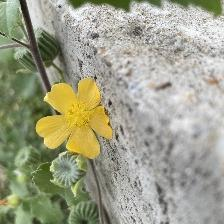indian mallow: (35, 77, 115, 162)
